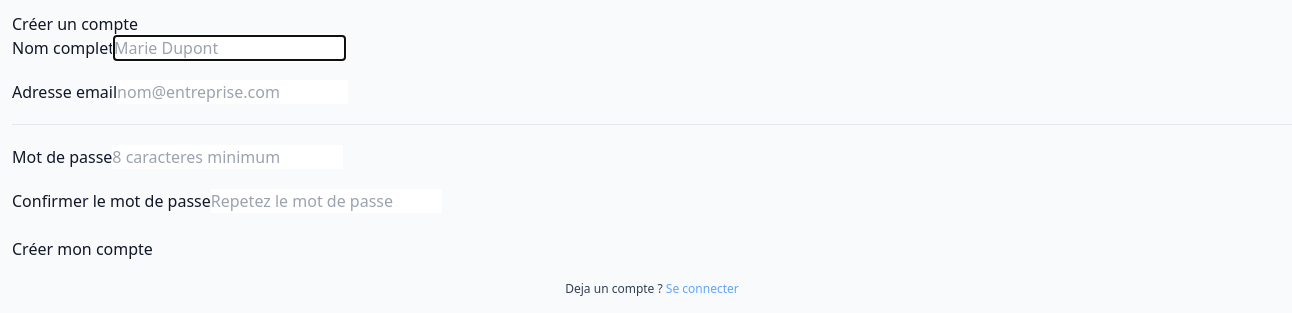
Test: RegisterPage › validation Zod — règles de complexité du mot de passe › devrait rejeter un mot de passe de moins de 8 caractères
Type "Jean Dupont" into the field labelled "Nom complet" at (230,48), box [114, 36, 345, 60]
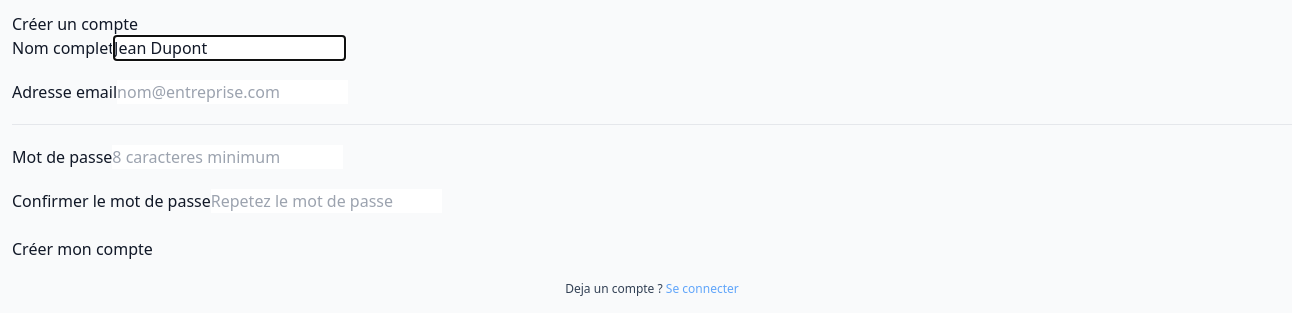
Type "jean@crm.io" into the field labelled "Adresse email" at (233,92), box [117, 80, 348, 104]
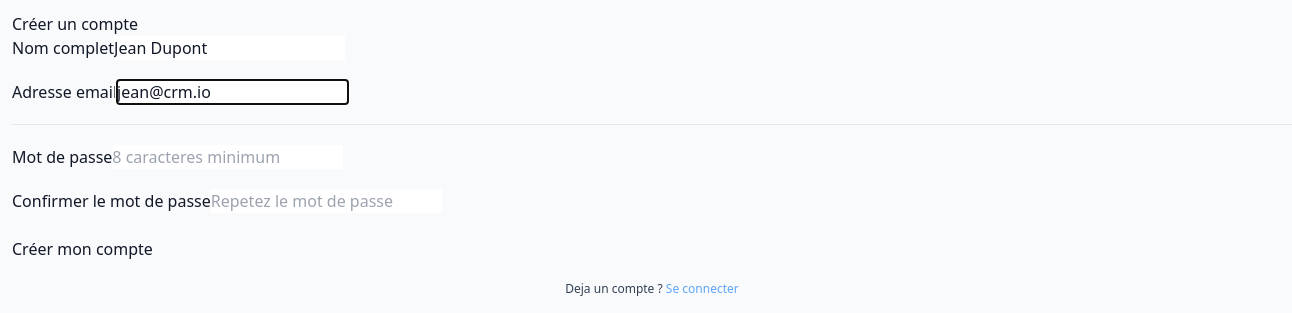
Type "Abc1" into the password field labelled "Mot de passe" at (228,157), box [112, 145, 343, 169]
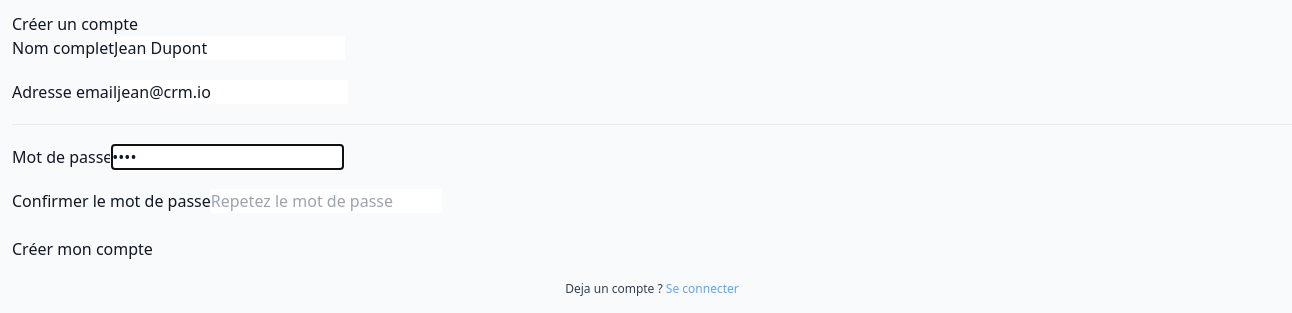
Type "Abc1" into the password field labelled "Confirmer le mot de passe" at (326,201), box [211, 189, 442, 213]
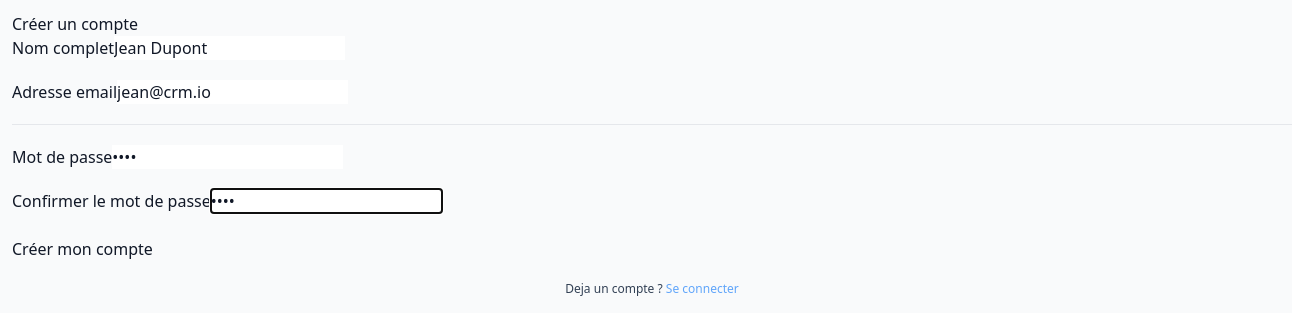
Click the button "Créer mon compte" at (82,249), box [12, 237, 153, 261]
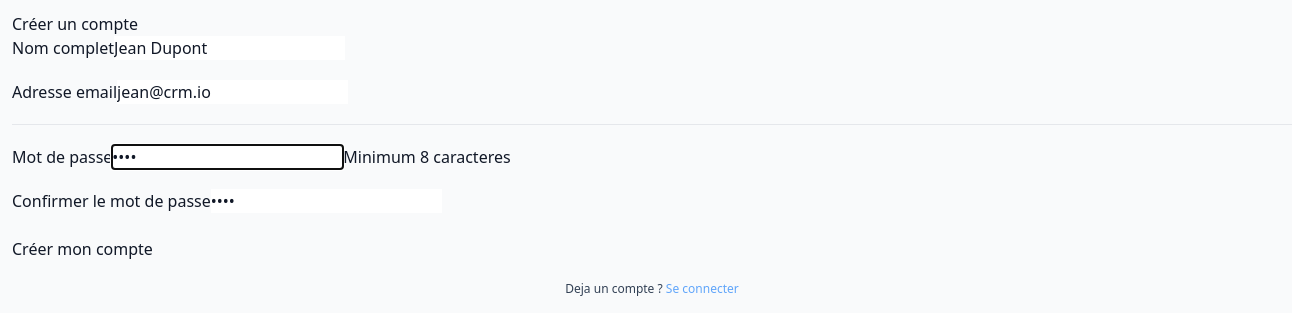
Now the message "Minimum 8 caracteres" is shown, box [343, 146, 511, 168]
